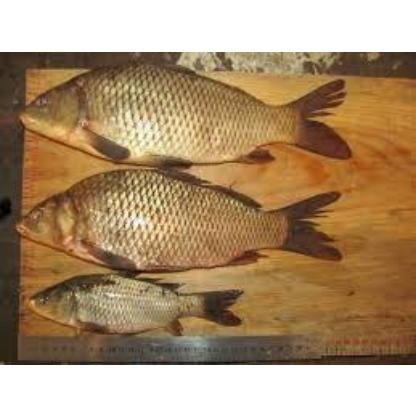ikan-mas: (21, 58, 349, 164), (17, 168, 335, 266), (30, 272, 242, 332)
